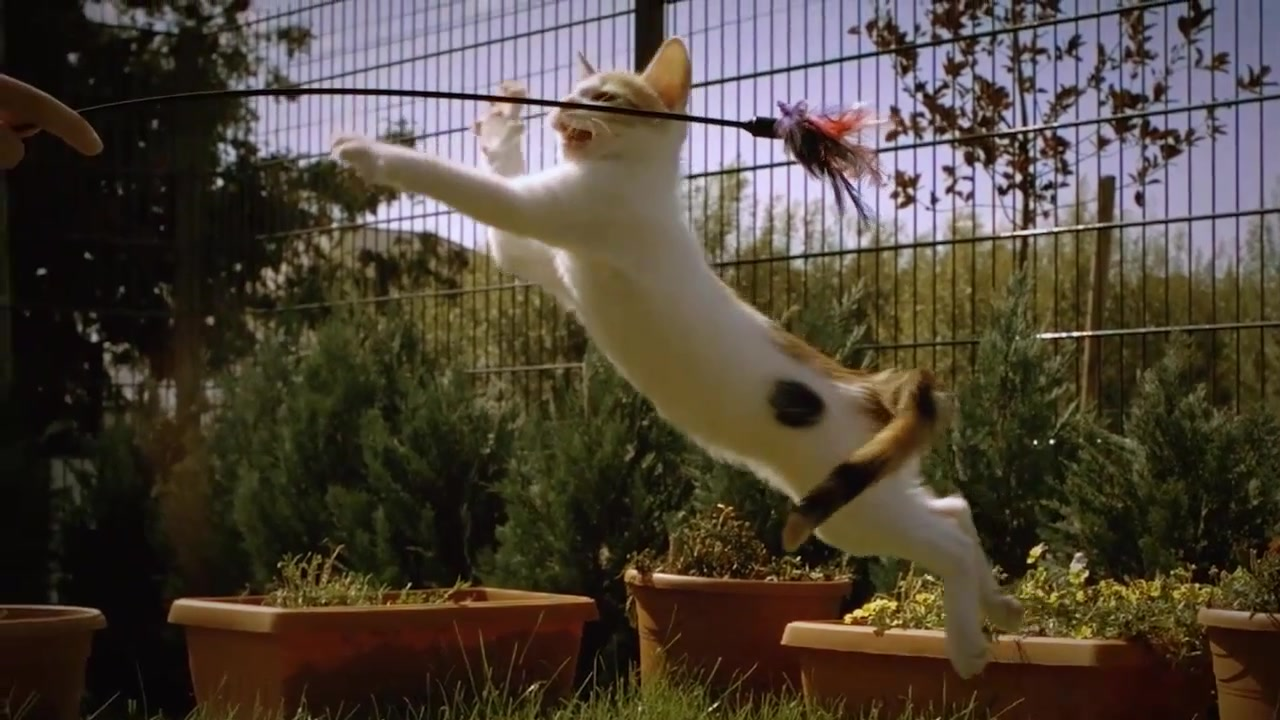cat: (329, 37, 1026, 678)
